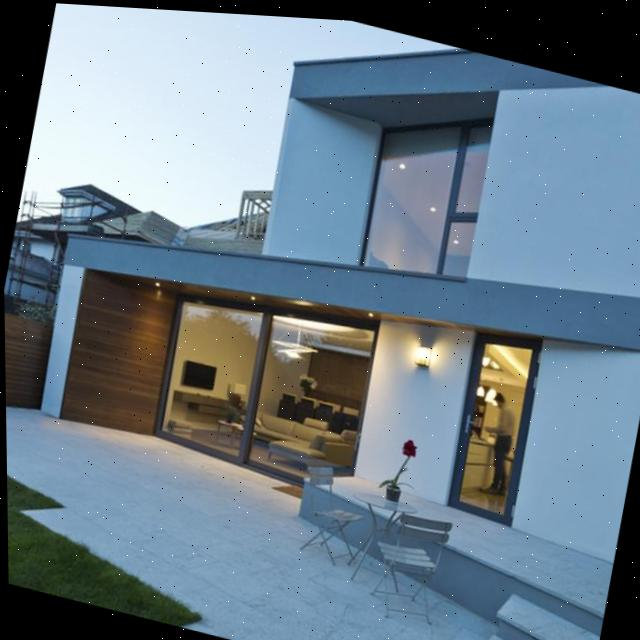building: (33, 2, 640, 575)
